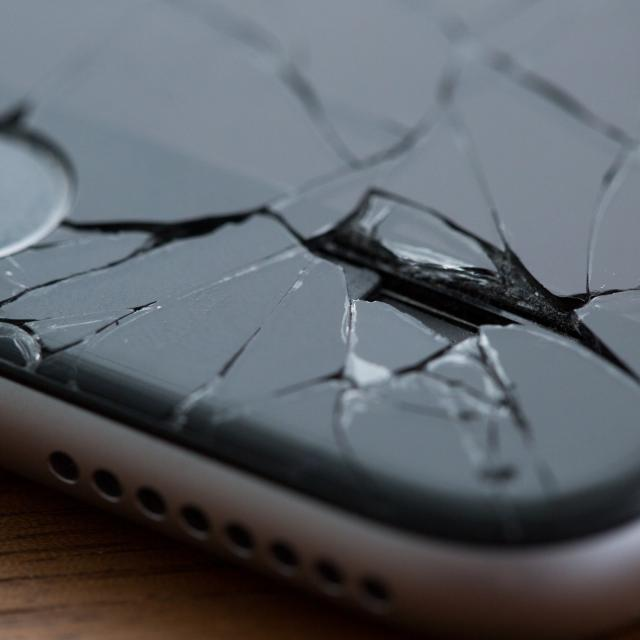phones: (0, 0, 640, 636)
